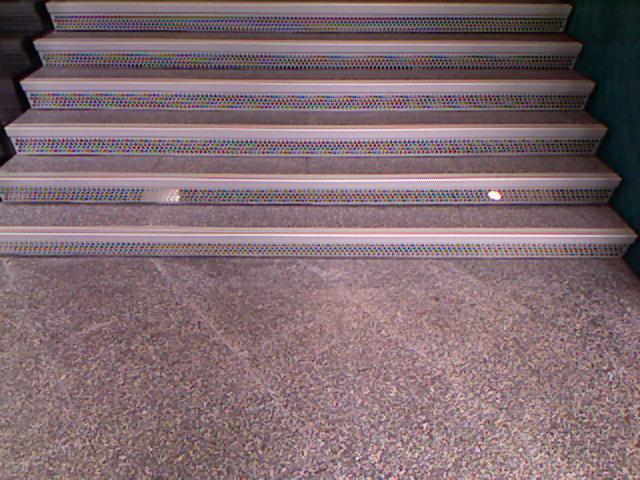Escaleras: (0, 7, 637, 272)
